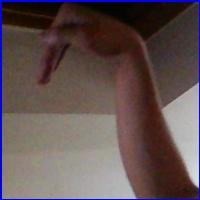del: (39, 3, 144, 89)
